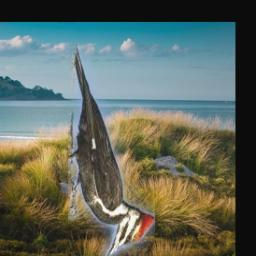Woodpecker: (69, 38, 156, 256)
